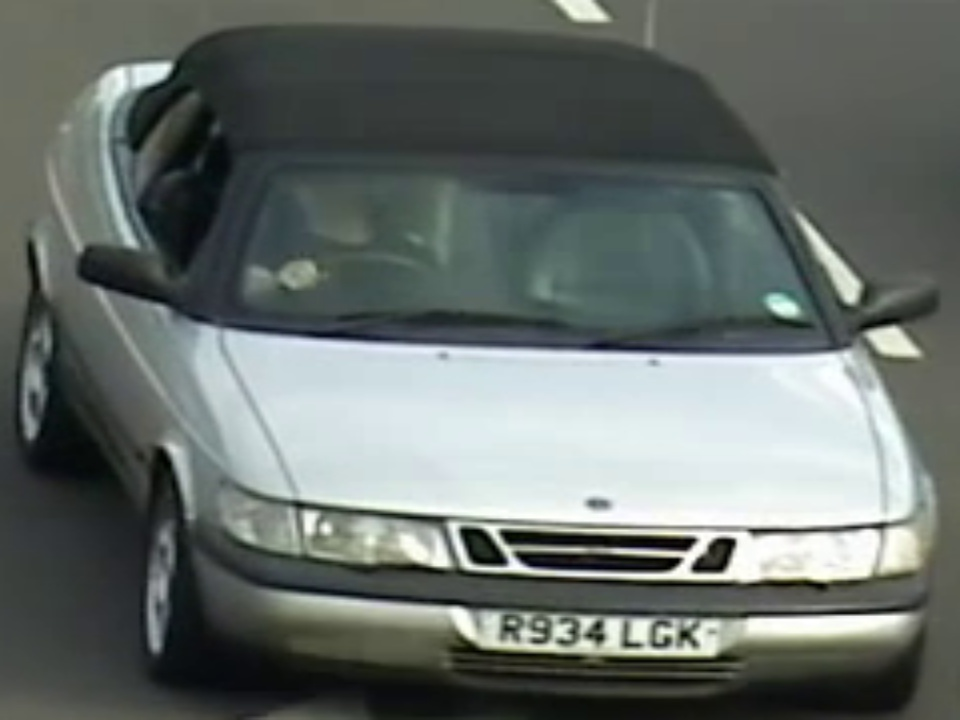ONE: (225, 150, 842, 354)
